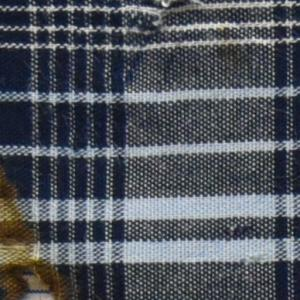Damage: (123, 1, 208, 92), (1, 184, 60, 300), (219, 222, 259, 242)
Oil Stain: (1, 161, 73, 300)
